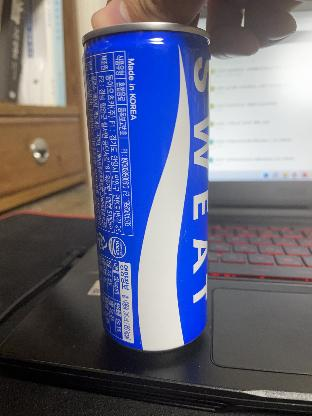Can: (80, 21, 212, 352)
